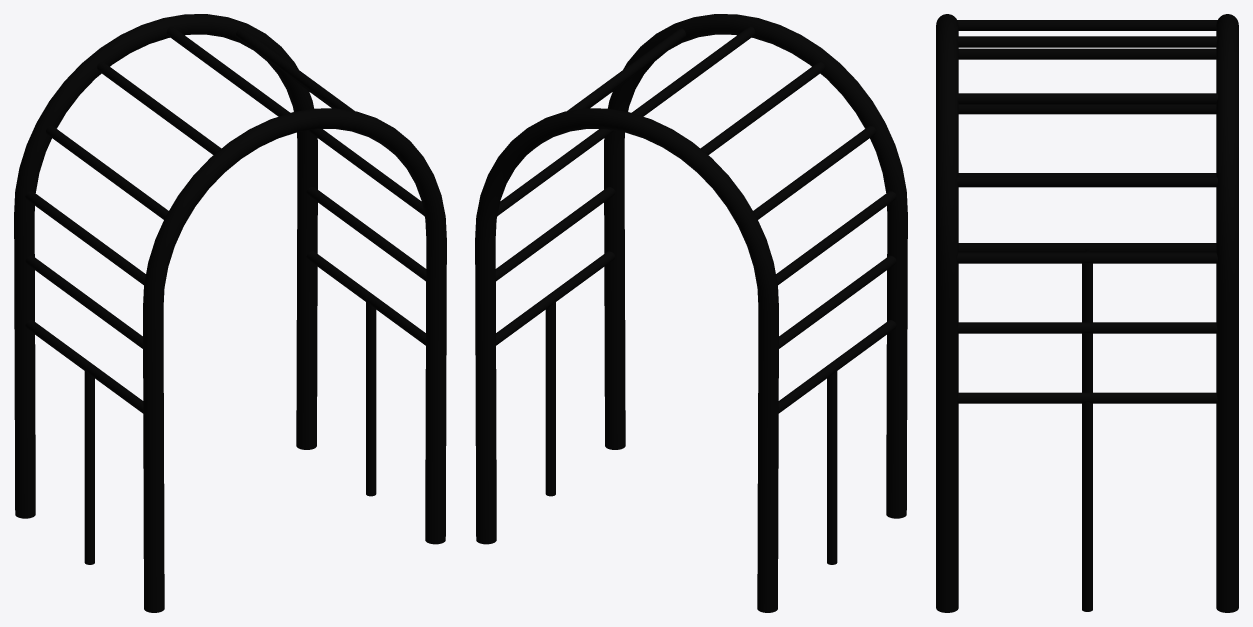
File: arch.fbx
The picture shows the model from 3 angles, left to right: view 1: azimuth 30°, elevation 25°; view 2: azimuth 150°, elevation 25°; view 3: azimuth 270°, elevation 25°; orthographic projection. The views are drawn at different scales.
Parts seen in each view (by area): view 1: pCylinder21; view 2: pCylinder21; view 3: pCylinder21.
Part boxes in pixels (x1,y1,x2,y2): pCylinder21: (14,14,446,612); pCylinder21: (475,14,907,612); pCylinder21: (936,14,1238,612).
Size of the model in its own units: 0.6751 by 0.9907 by 0.54.
1 material, 1 textured.
